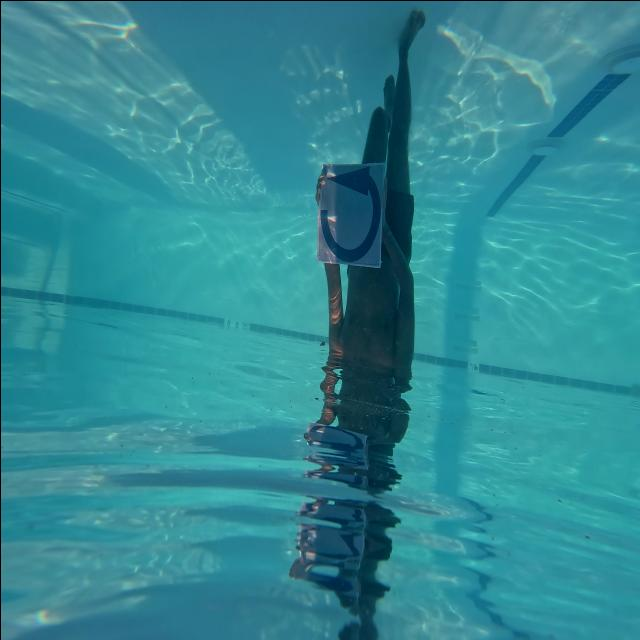blue_side: (316, 160, 382, 268)
